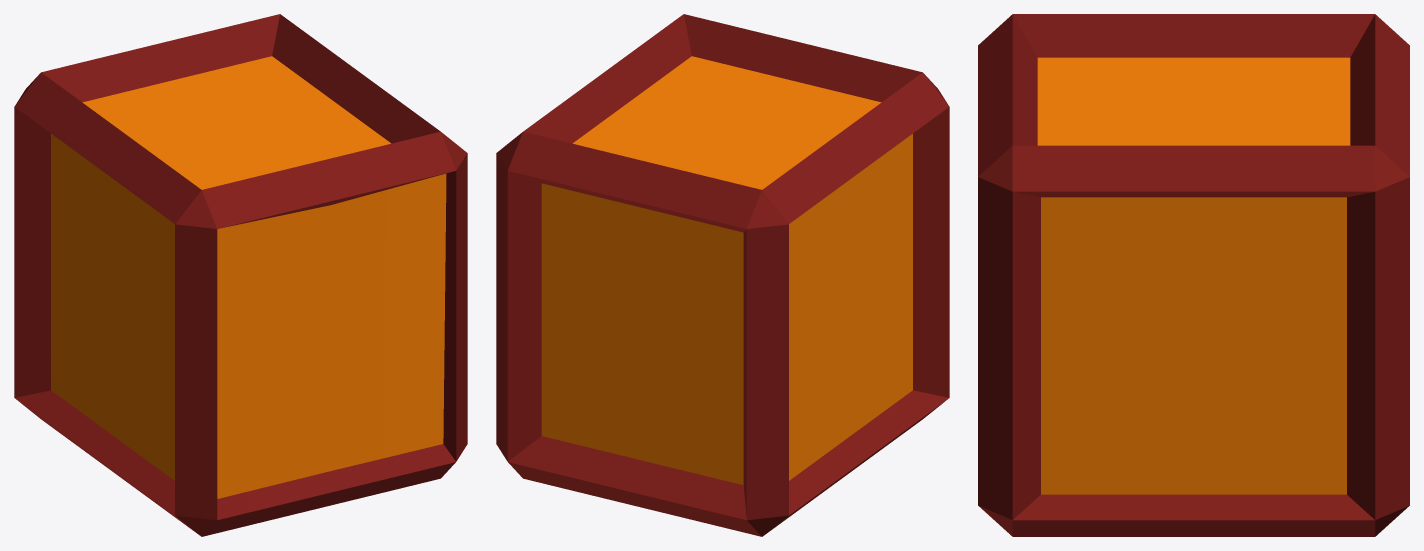
File: Cargo.fbx
3 views of the same model, side by side, from view 1: azimuth 30°, elevation 25°; view 2: azimuth 150°, elevation 25°; view 3: azimuth 270°, elevation 25° (orthographic). The views are drawn at different scales.
Visible parts, largest first — view 1: Cargo; view 2: Cargo; view 3: Cargo.
Boxes of the visible parts, left/top/right/bottom form: Cargo: left=14, top=14, right=467, bottom=536; Cargo: left=496, top=14, right=949, bottom=536; Cargo: left=978, top=14, right=1409, bottom=536.
Size of the model in its own units: 1.76 by 2 by 2.
